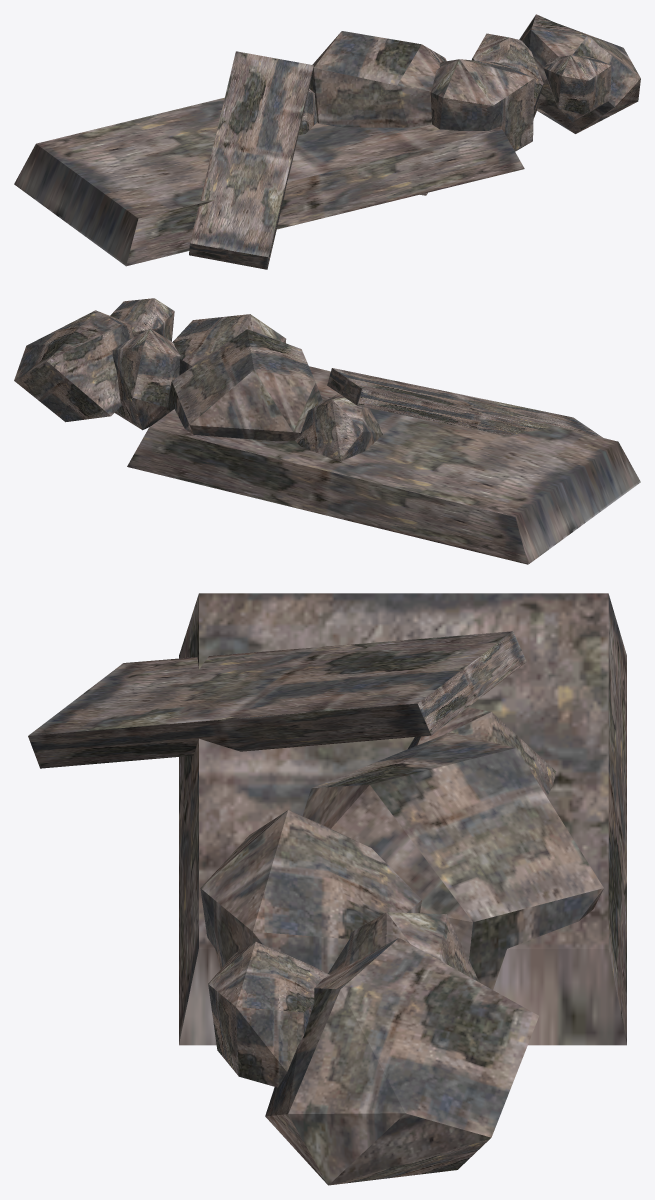
File: C4SMROCKSCOVERH.obj
3 renders of one model, top to bottom at view 1: azimuth 30°, elevation 25°; view 2: azimuth 150°, elevation 25°; view 3: azimuth 270°, elevation 25°, orthographic. The views are drawn at different scales.
Visible parts, largest first — view 1: Node 0; view 2: Node 0; view 3: Node 0.
Boxes of the visible parts, bbox=[...] form: Node 0: bbox=[14, 14, 640, 269]; Node 0: bbox=[14, 298, 640, 564]; Node 0: bbox=[28, 593, 626, 1185].
Bounding box in the file's own units: 8.31 × 1.94 × 3.89.
Materials: 1 (1 with a texture image).
